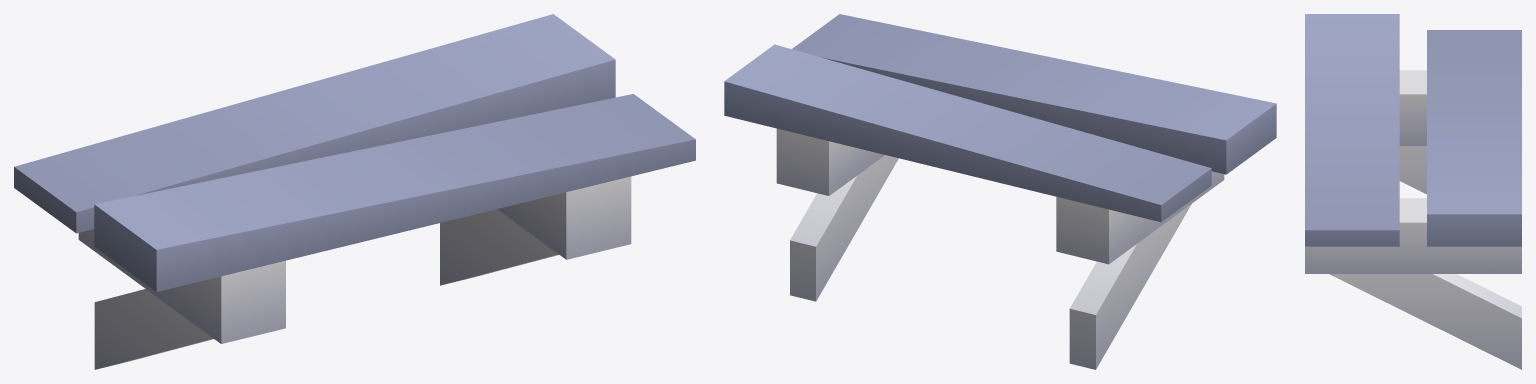
Rendered from platform-overhang.glb.
3 renders of one model, left to right at view 1: azimuth 30°, elevation 25°; view 2: azimuth 150°, elevation 25°; view 3: azimuth 270°, elevation 25°, orthographic. The views are drawn at different scales.
Visible parts, largest first — view 1: platform-overhang; view 2: platform-overhang; view 3: platform-overhang.
Boxes of the visible parts, left/top/right/bottom form: platform-overhang: left=14, top=14, right=695, bottom=369; platform-overhang: left=724, top=14, right=1276, bottom=369; platform-overhang: left=1305, top=14, right=1521, bottom=369.
Size of the model in its own units: 1 by 0.4325 by 0.4577.
